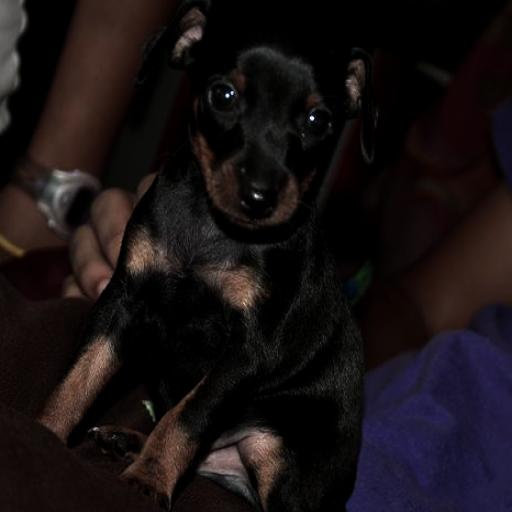dog_face: (156, 0, 379, 228)
